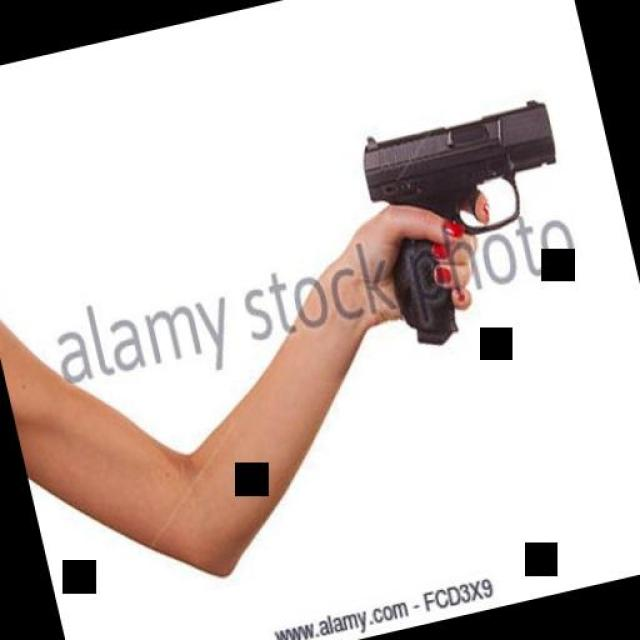gun: (348, 91, 592, 356)
